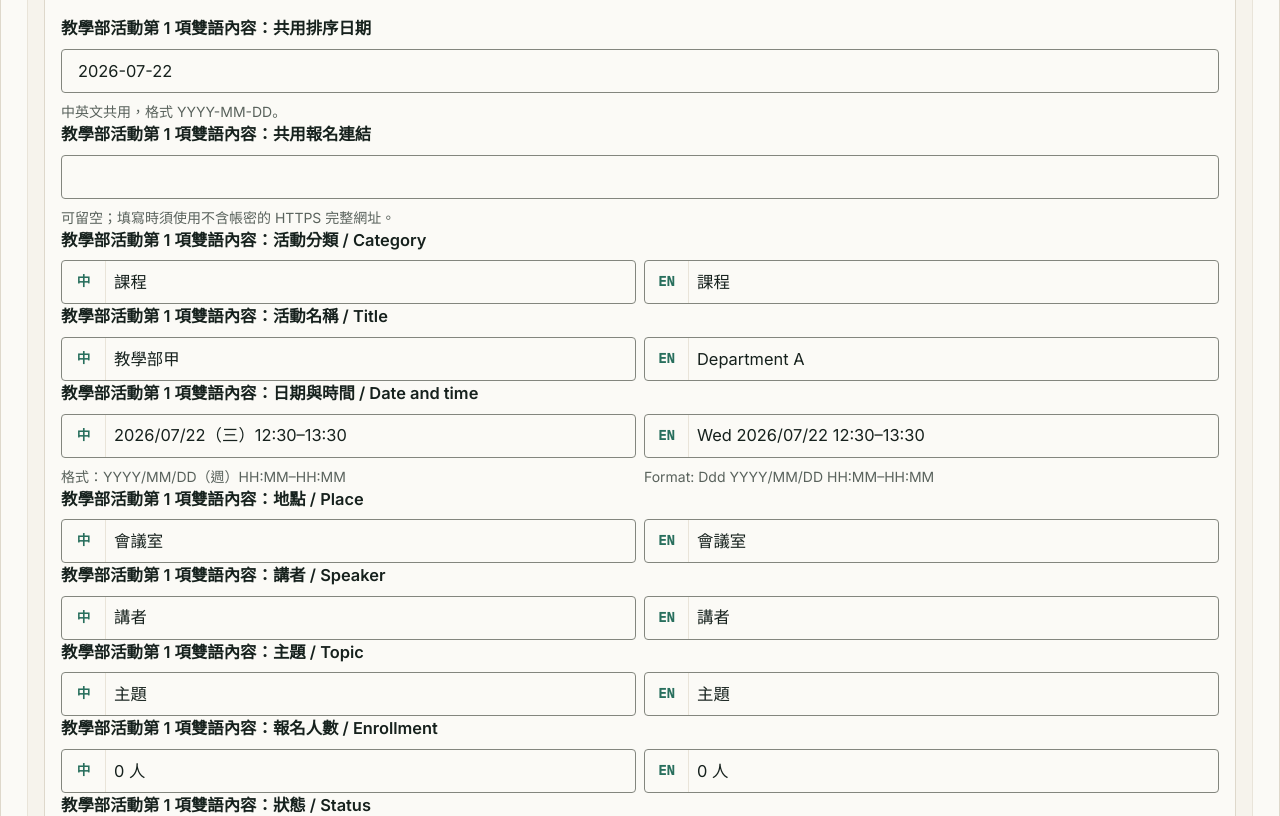
Test: activities editor › preserves authored invalid text and shows localized date and link feedback
(page scrolled)
Replace the text in the 5th field named "日期與時間（繁體中文）" with "2026/02/30（一）13:30–12:30" at (348, 436), box [61, 414, 636, 458]
(page scrolled)
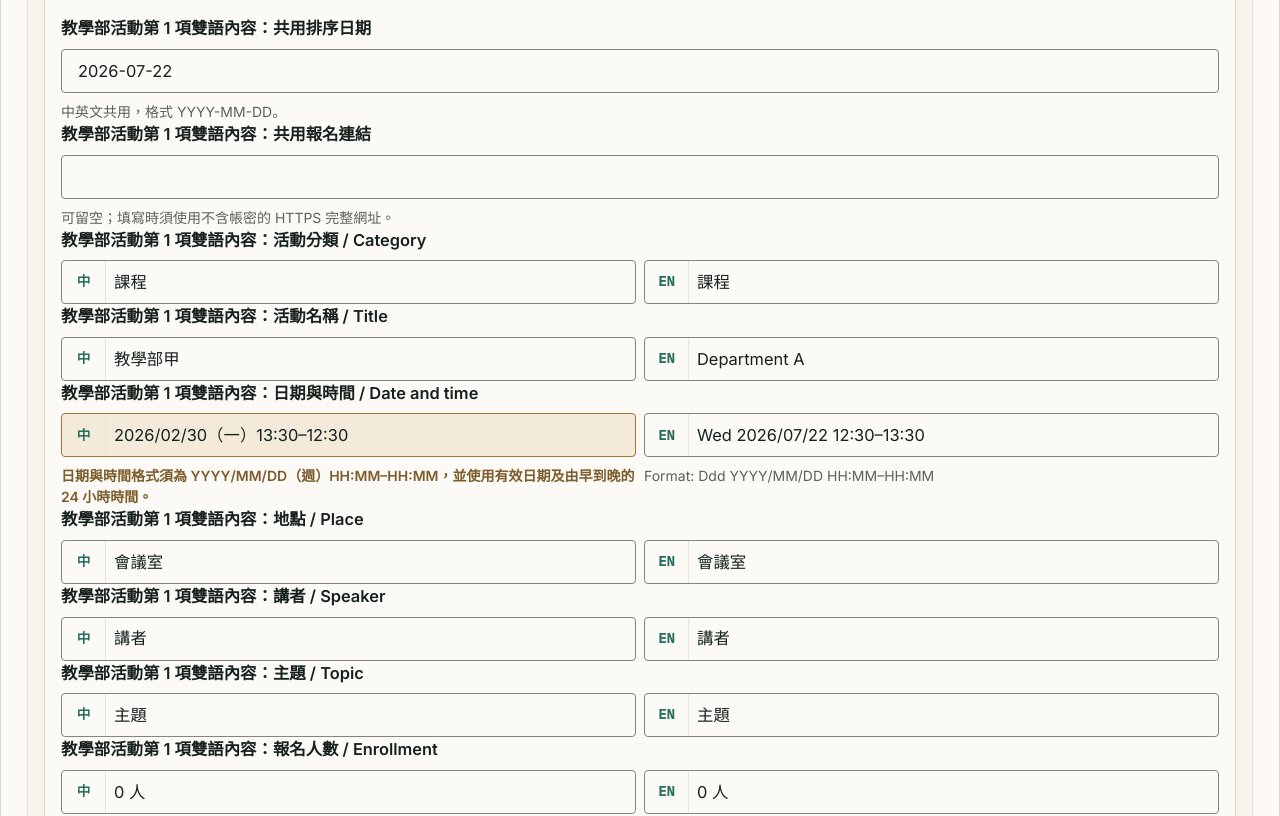
Type "http://example.test/course" into the field labelled "教學部活動第 1 項雙語內容：共用報名連結" at (640, 177), box [61, 155, 1219, 199]
(page scrolled)
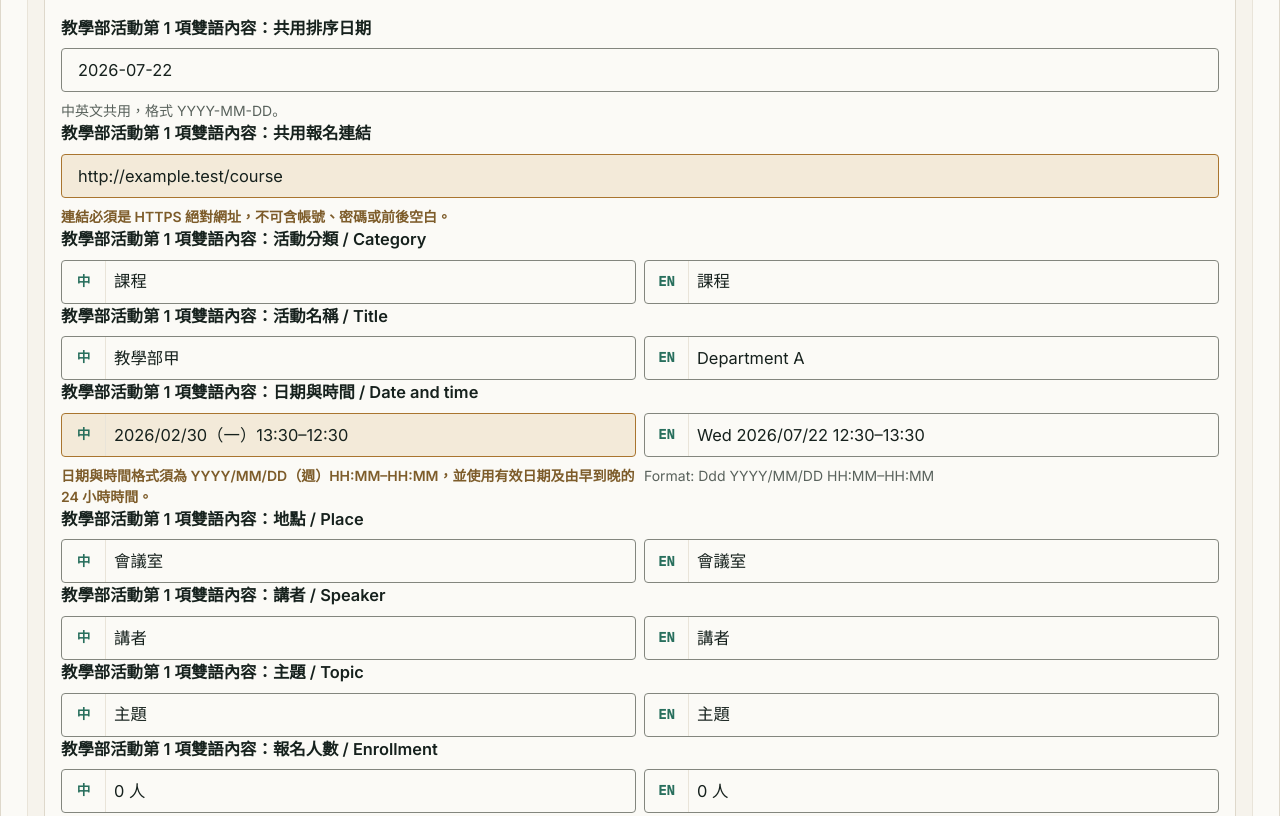
Expected: the text "日期與時間格式" is shown 2 times
